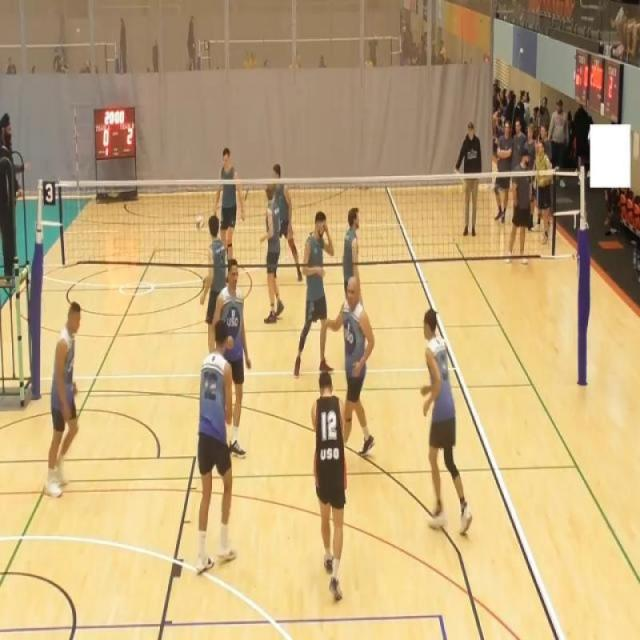volleyball: (196, 214, 204, 230)
